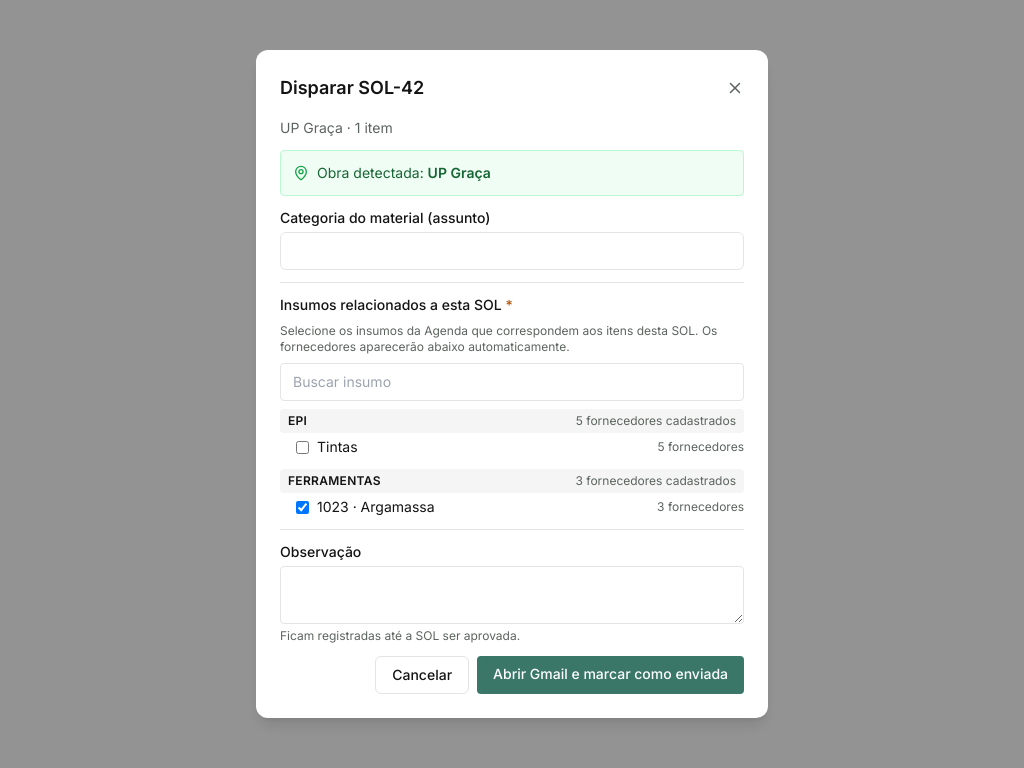
Test: DisparoSolModal › filtra a lista de materiais pela busca
The width and height of the screenshot is (1024, 768).
Type "tinta" into the search field with placeholder "Buscar insumo" at [512, 382], box [280,363,744,401]
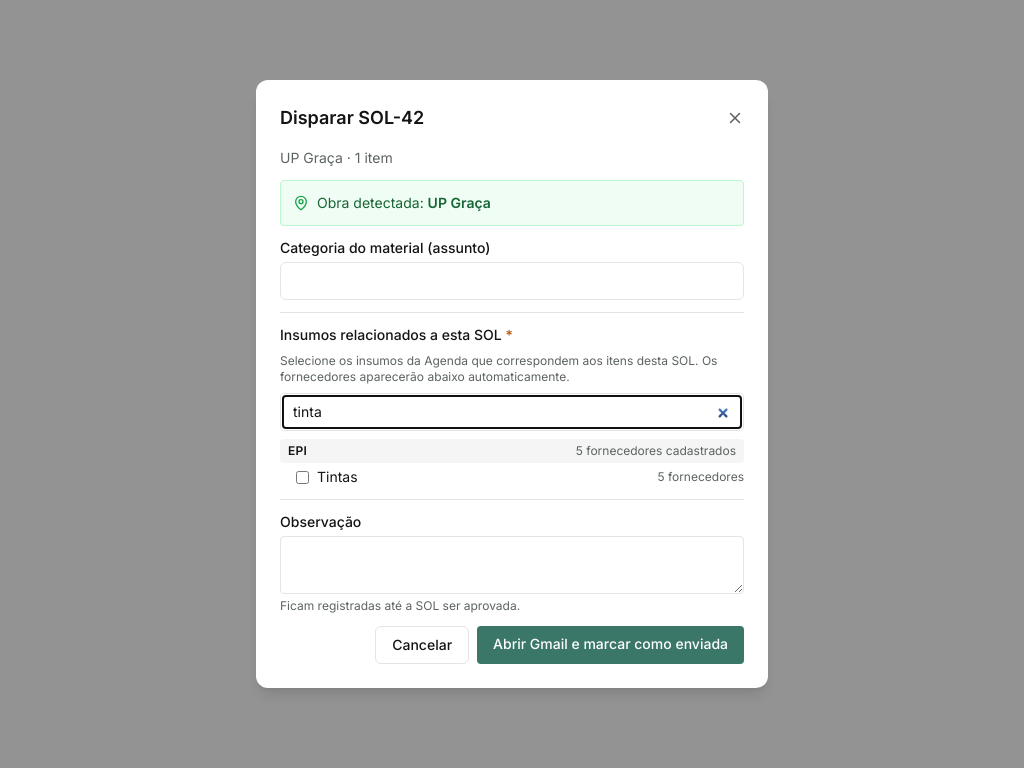
Expected: the checkbox labelled "Tintas 5 fornecedores" is shown, [296,470,309,484]
Expected: the checkbox labelled "Argamassa" is gone
